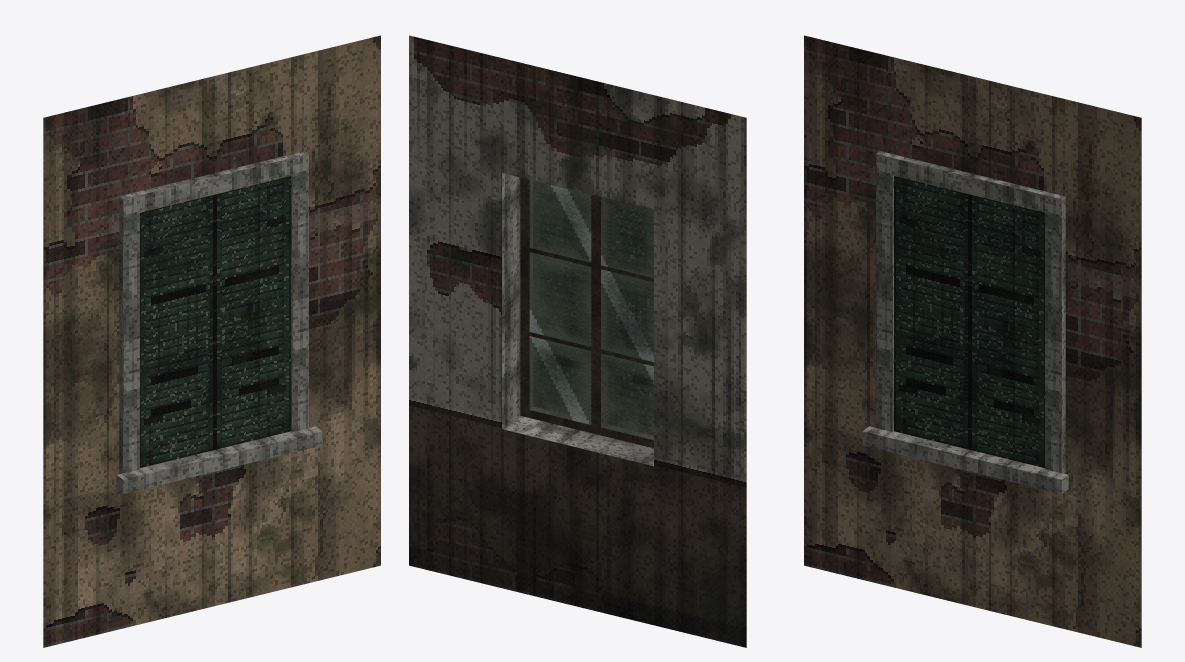
The model's file is ext_window_rect_shut.gltf.
3 renders of one model, left to right at view 1: azimuth 30°, elevation 25°; view 2: azimuth 150°, elevation 25°; view 3: azimuth 330°, elevation 25°, orthographic.
Visible parts, largest first — view 1: ext_window_rect_shut; view 2: ext_window_rect_shut; view 3: ext_window_rect_shut.
Part boxes in pixels (left/top/right/bottom): ext_window_rect_shut: left=43, top=35, right=380, bottom=647; ext_window_rect_shut: left=409, top=35, right=746, bottom=647; ext_window_rect_shut: left=804, top=35, right=1141, bottom=647.
Size of what is drawn, in the model's own units: 2 by 3 by 0.41.
5 materials, 5 textured.
